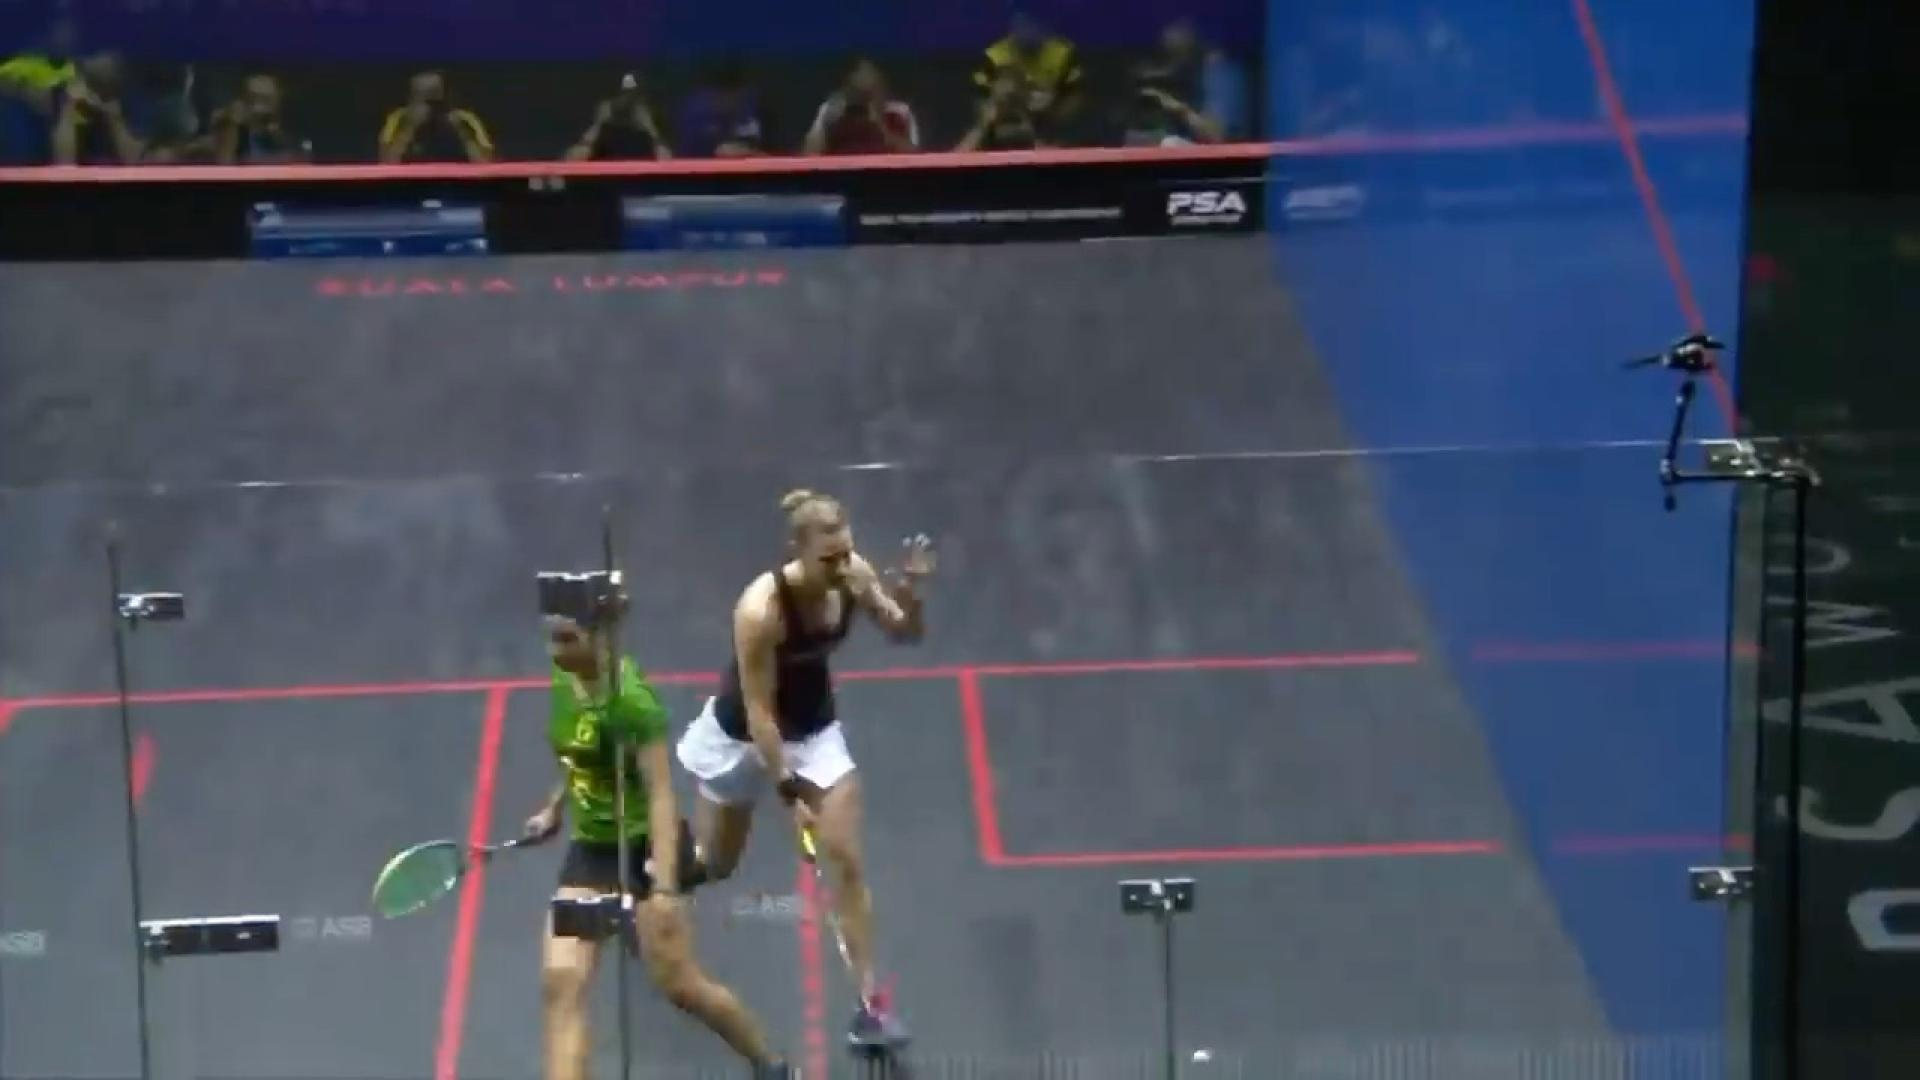Squash-Ball: (1171, 1039, 1232, 1080)
